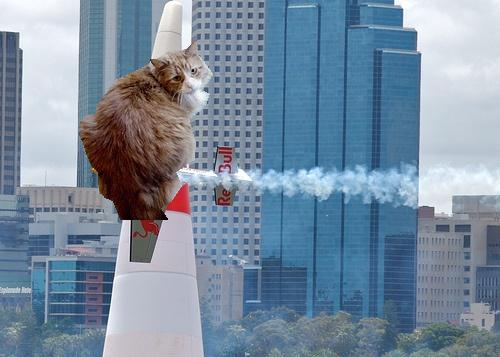tampered: (79, 40, 213, 220)
